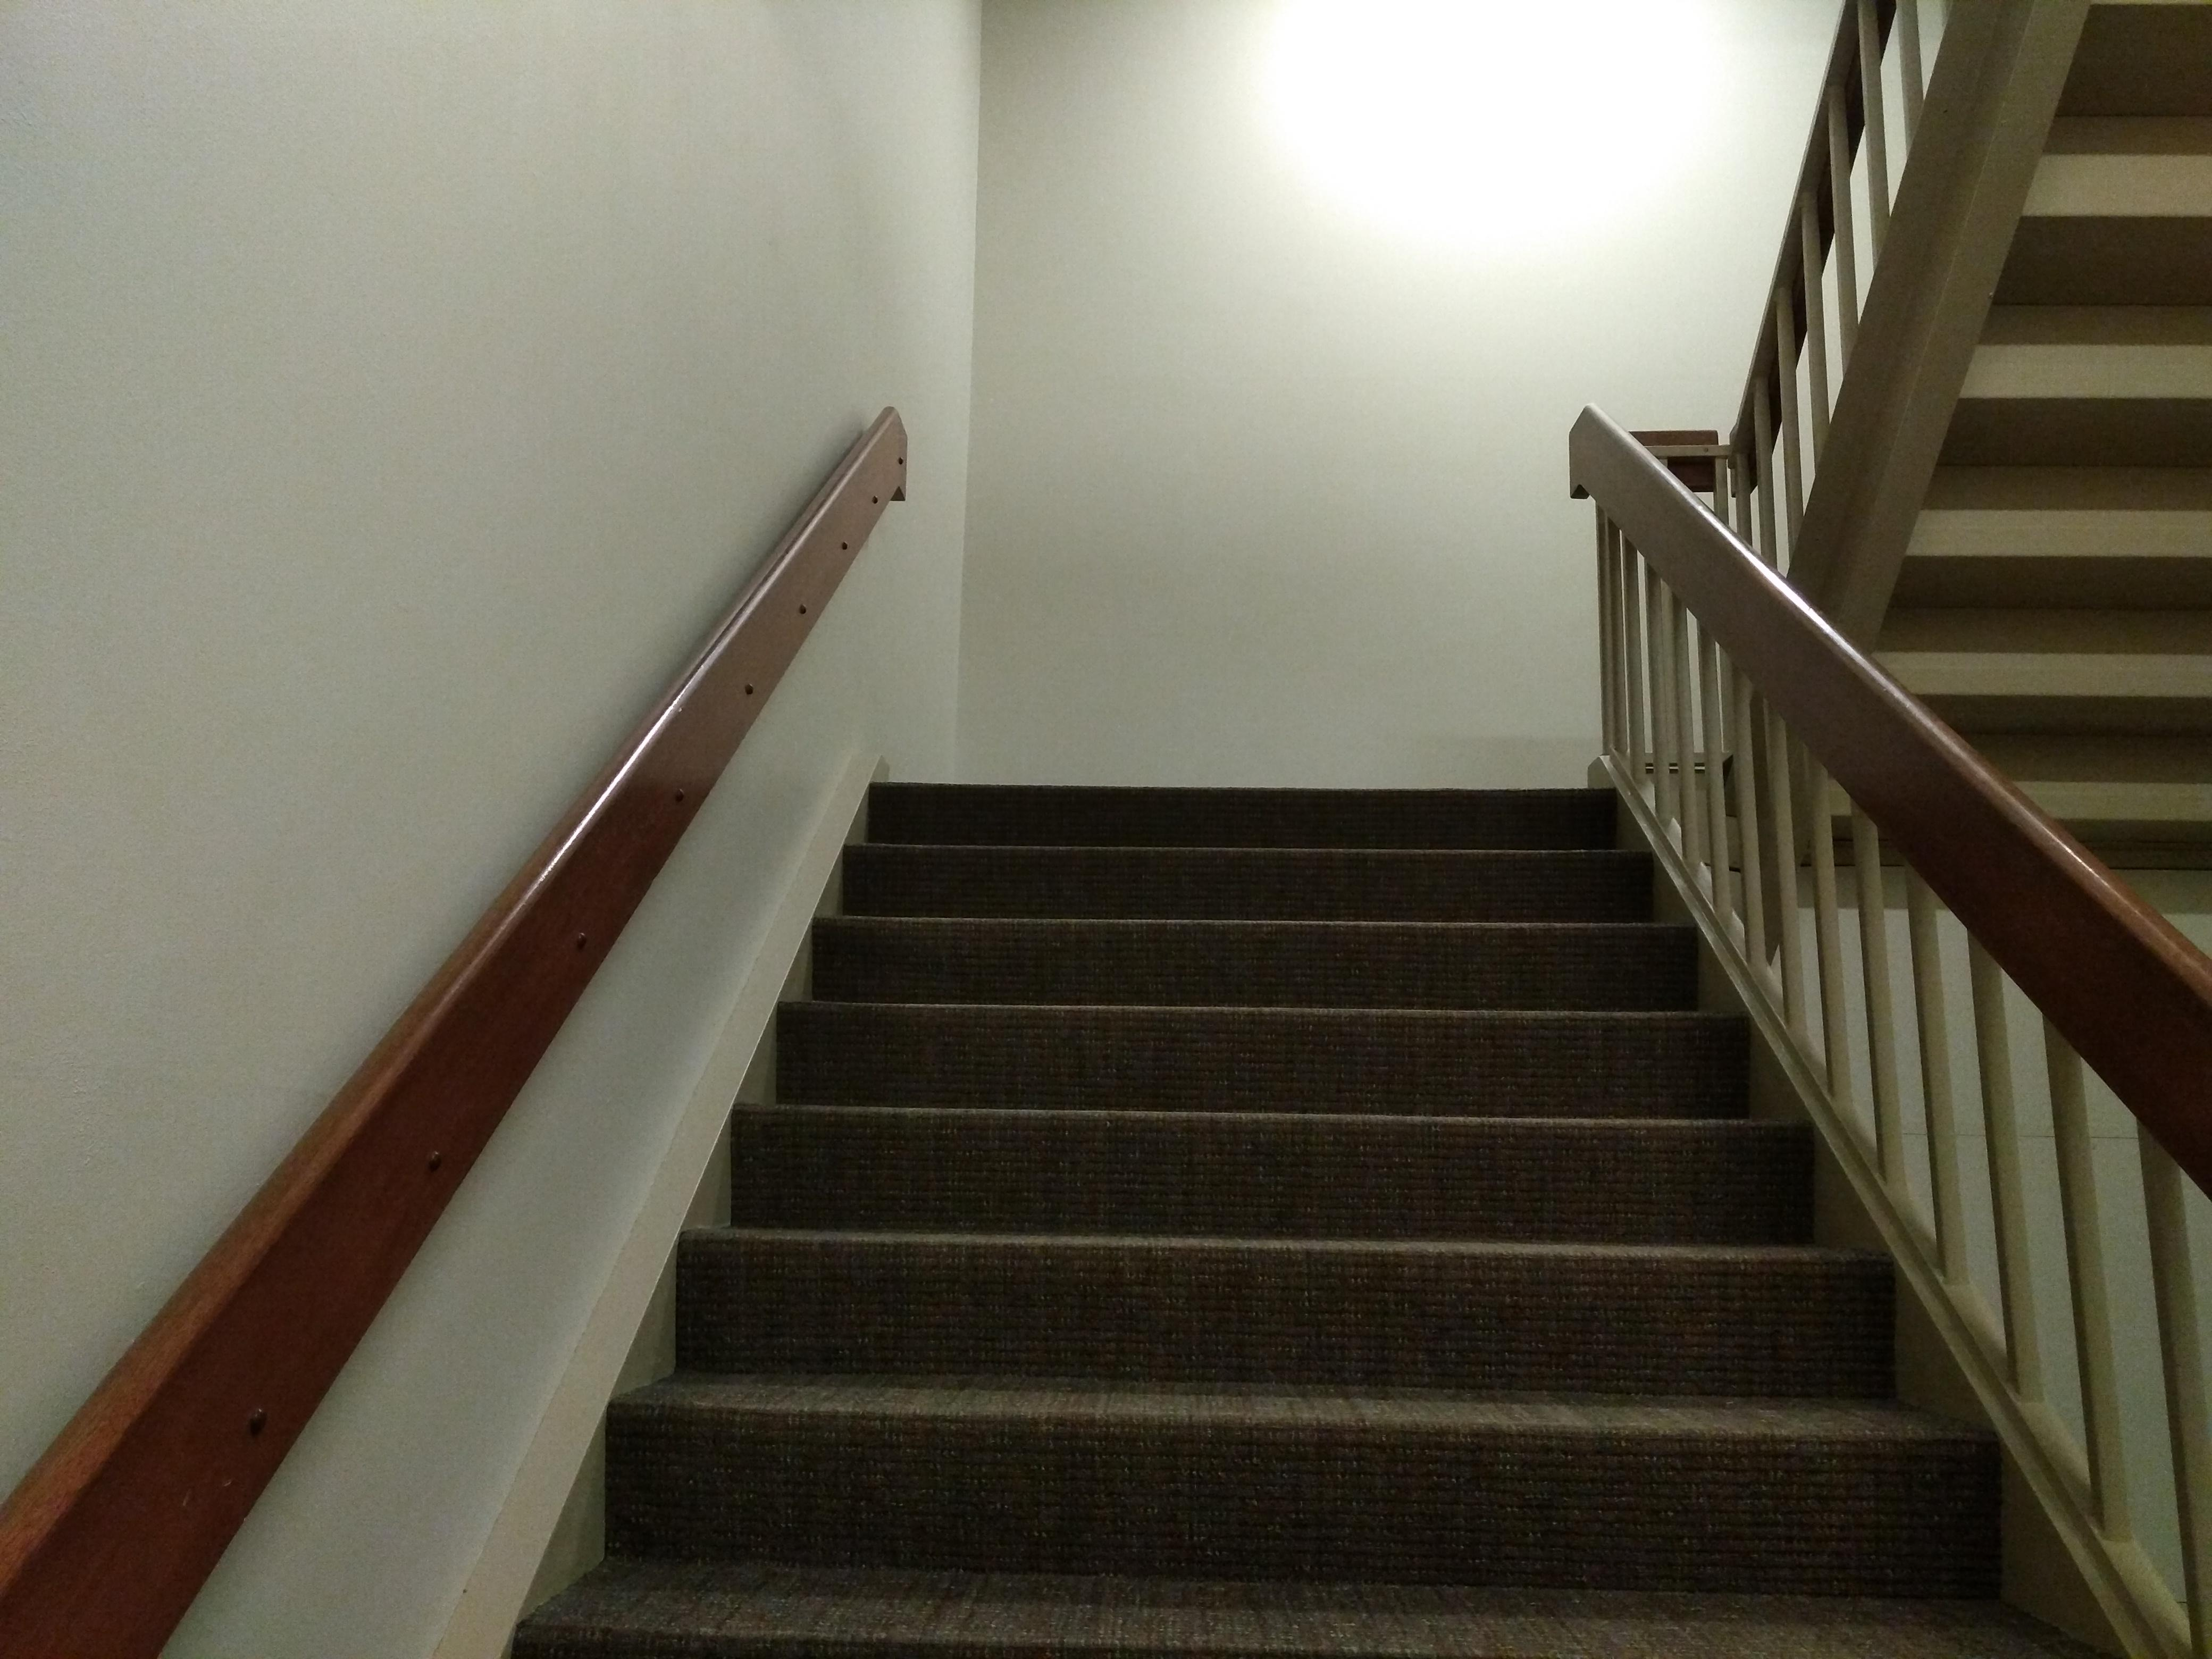stairs_up: (615, 753, 2008, 1622)
